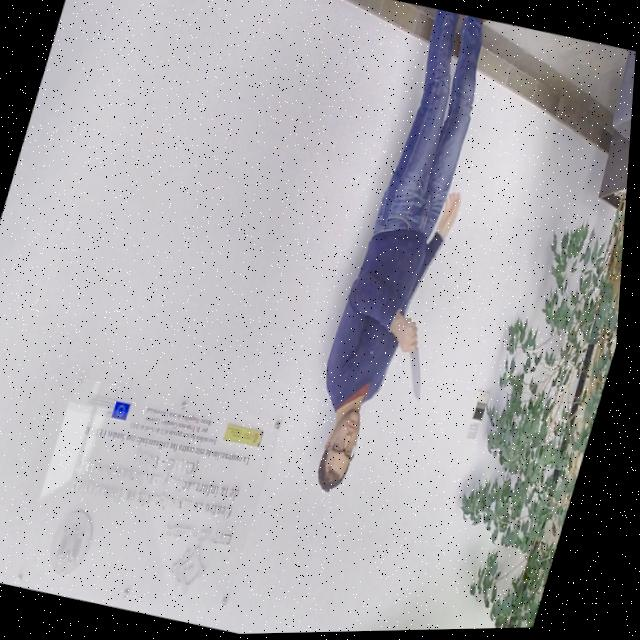knife: (399, 343, 443, 410)
